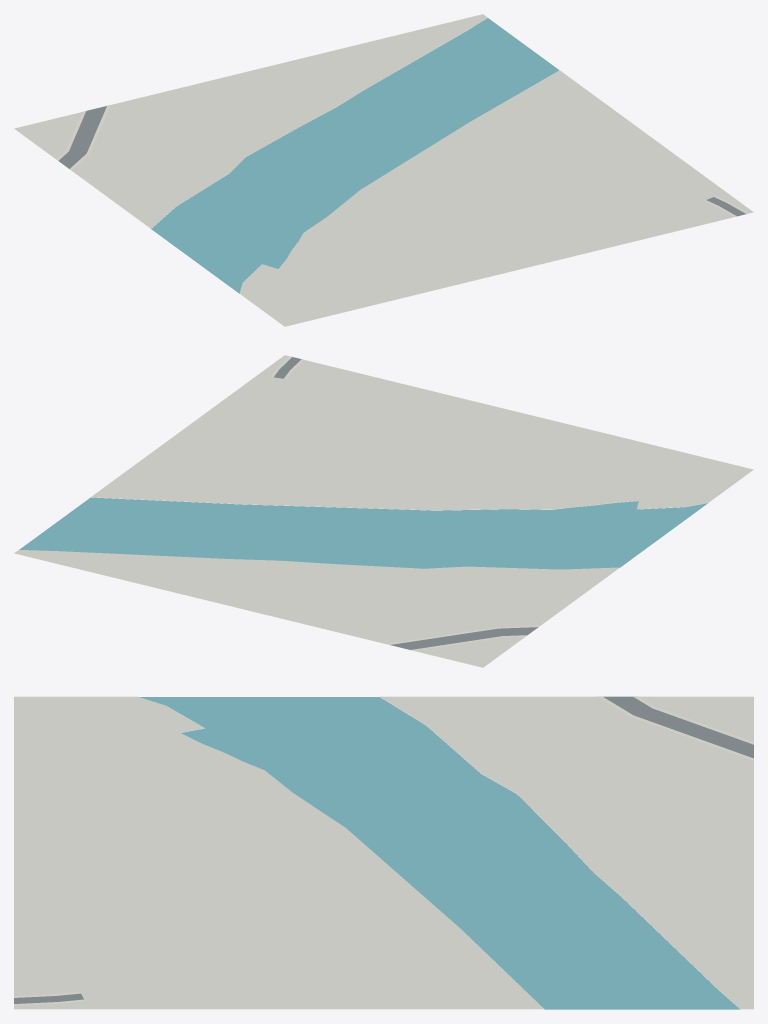
3 views of the same model, one above another, from view 1: azimuth 30°, elevation 25°; view 2: azimuth 150°, elevation 25°; view 3: azimuth 270°, elevation 25° (orthographic). The views are drawn at different scales.
Visible parts, largest first — view 1: city; view 2: city; view 3: city.
Part boxes in pixels (bbox=[...]): city: bbox=[14, 14, 753, 326]; city: bbox=[14, 355, 753, 667]; city: bbox=[14, 696, 753, 1009].
Size of the model in its own units: 500 by 0.4 by 500.
